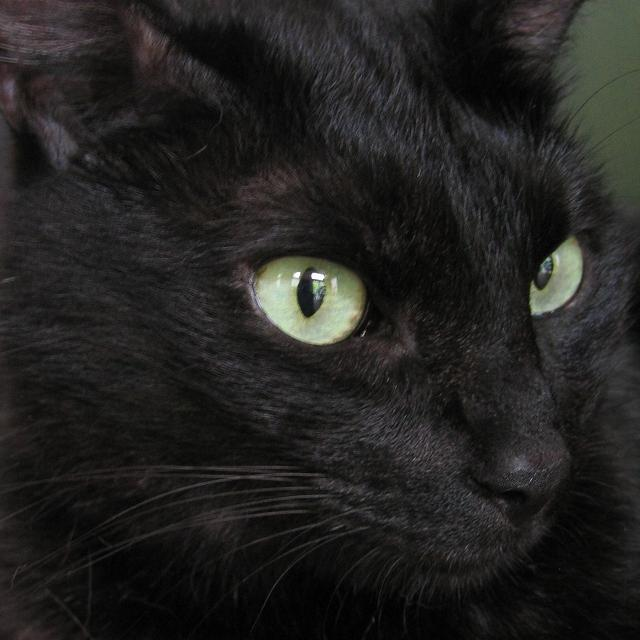animals: (0, 0, 630, 519)
